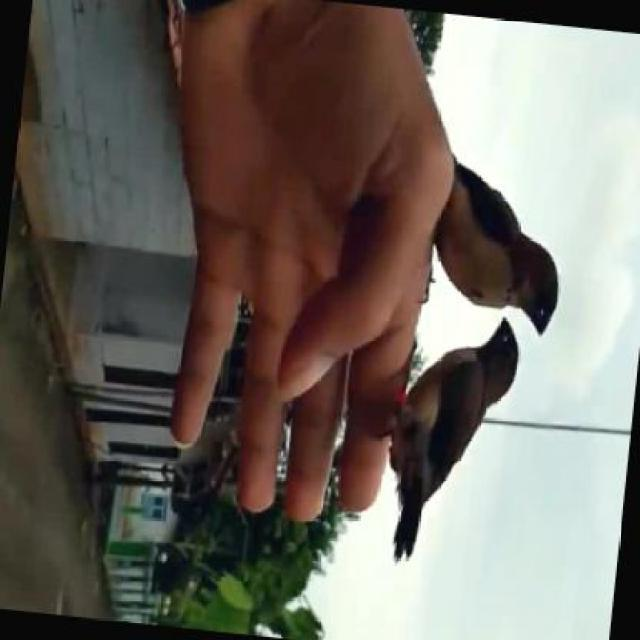Bird: (375, 309, 587, 572), (429, 140, 577, 333)
